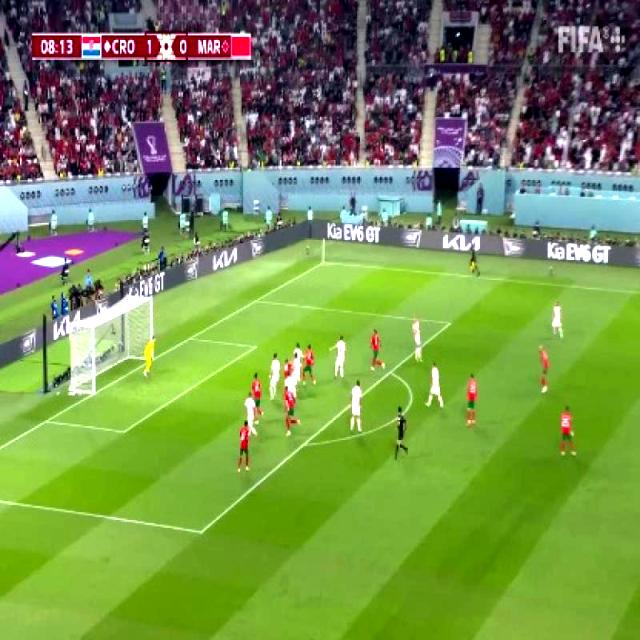bigarea_bottom_inner: (191, 517, 211, 545)
bigarea_top_inner: (440, 311, 457, 332)
bigarea_top_outter: (250, 289, 264, 308)
bottom_arc_area_intersection: (296, 431, 314, 454)
corner: (316, 255, 330, 268)
smallarea_bottom_inner: (114, 417, 134, 445)
smallarea_bottom_outter: (36, 409, 54, 431)
smallarea_top_inner: (245, 334, 263, 358)
smallarea_top_outter: (184, 328, 198, 346)
top_arc_area_intersection: (382, 360, 396, 382)
